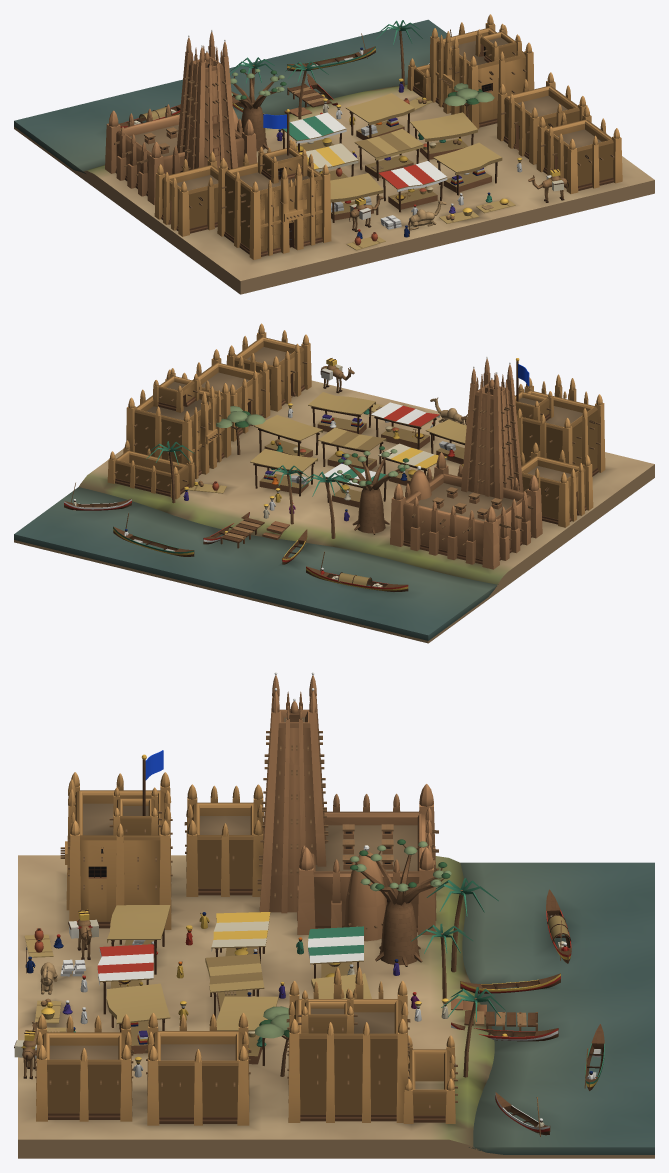
File: lm_nijerpazari.glb
3 views of the same model, one above another, from view 1: azimuth 30°, elevation 25°; view 2: azimuth 150°, elevation 25°; view 3: azimuth 270°, elevation 25° (orthographic). The views are drawn at different scales.
Parts seen in each view (by area): view 1: lm_nijerpazari; view 2: lm_nijerpazari; view 3: lm_nijerpazari.
Part boxes in pixels (x1=…): lm_nijerpazari: x1=14, y1=14, x2=654, y2=294; lm_nijerpazari: x1=14, y1=323, x2=654, y2=643; lm_nijerpazari: x1=14, y1=672, x2=654, y2=1158.
Bounding box in the file's own units: 2.24 × 0.8756 × 2.13.
Materials: 1 (1 with a texture image).
